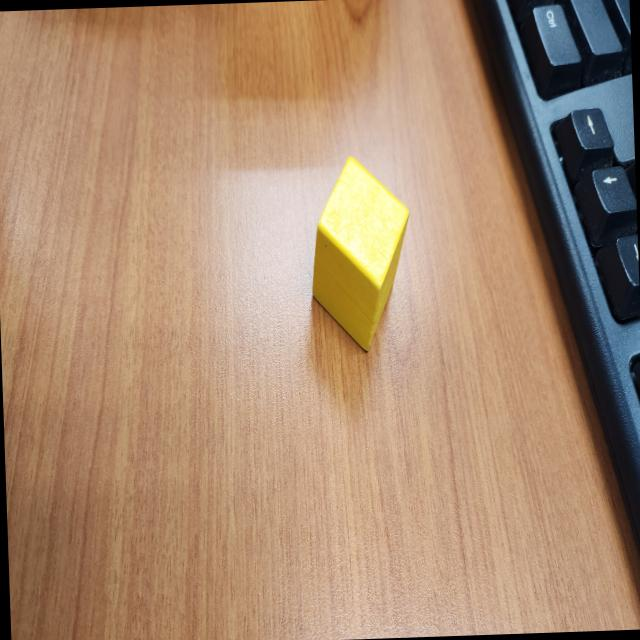yellow: (311, 156, 409, 352)
